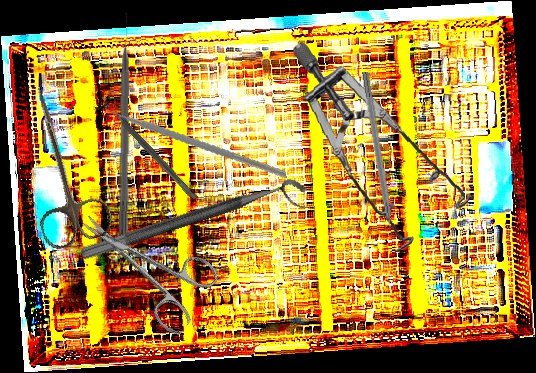Chopper: (101, 58, 287, 213)
Fixation Ring: (79, 174, 313, 279), (93, 93, 204, 207)
Iris Scissors: (63, 186, 226, 339), (1, 78, 117, 253)
Pusher: (359, 71, 397, 247), (118, 12, 134, 238)
Speculum: (290, 27, 480, 260)
